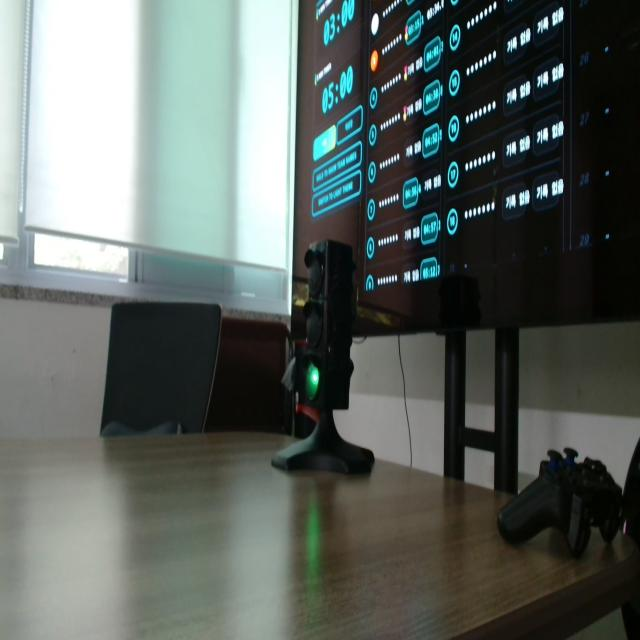green_light: (306, 364, 319, 399)
